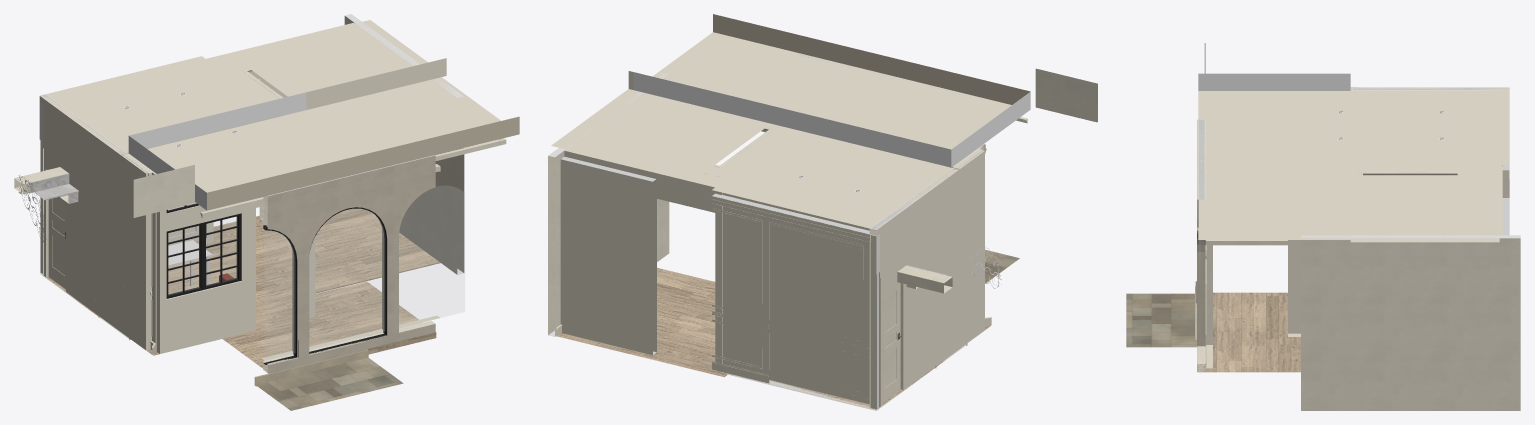
File: office-west-0fd31d61ef28.glb
The picture shows the model from 3 angles, left to right: view 1: azimuth 30°, elevation 25°; view 2: azimuth 150°, elevation 25°; view 3: azimuth 270°, elevation 25°; orthographic projection. The views are drawn at different scales.
Visible parts, largest first — view 1: office-west-look-dbd60ee5c3733ed6, office-west-6a051330000fbca1, office-west-look-c9e78b9ec1bb39cd, office-west-look-2575515a05775d9e, office-west-2575515a05775d9e, office-west-look-c02a36d0521470a9, office-west-a822d30aa9e2c55a, office-west-look-5cbcc744e6f960f3, office-west-look-3b0077416469e01b, office-west-look-c374268555806af8, office-west-look-6a1144f4e43410bb, office-west-dbd60ee5c3733ed6 (+21 smaller); view 2: office-west-look-dbd60ee5c3733ed6, office-west-fca9ba73dd7496f7, office-west-6a051330000fbca1, office-west-look-19647d6da46c2b80, office-west-2575515a05775d9e, office-west-look-2575515a05775d9e, office-west-look-3b0077416469e01b, office-west-19647d6da46c2b80, office-west-look-6a1144f4e43410bb, office-west-look-34525a54e63b733b, office-west-look-8bc98920de6516ce, office-west-dbd60ee5c3733ed6 (+10 smaller); view 3: office-west-look-6a1144f4e43410bb, office-west-look-dbd60ee5c3733ed6, office-west-2575515a05775d9e, office-west-look-2575515a05775d9e, office-west-look-c374268555806af8, office-west-dbd60ee5c3733ed6, office-west-look-982408871810a50e, office-west-look-c9e78b9ec1bb39cd, office-west-7b11e78295c2e11d, office-west-look-9cfa99552c9f4048, office-west-a822d30aa9e2c55a, office-west-look-e54cb06e326b7f4f (+4 smaller).
Boxes of the visible parts, x1,y1,x2,y2 form: office-west-look-dbd60ee5c3733ed6: (128,77,519,210); office-west-6a051330000fbca1: (39,94,156,351); office-west-look-c9e78b9ec1bb39cd: (263,155,435,372); office-west-look-2575515a05775d9e: (230,20,446,109); office-west-2575515a05775d9e: (40,56,282,155); office-west-look-c02a36d0521470a9: (309,209,385,349); office-west-a822d30aa9e2c55a: (156,139,307,353); office-west-look-5cbcc744e6f960f3: (399,186,464,327); office-west-look-3b0077416469e01b: (213,208,440,298); office-west-look-c374268555806af8: (223,281,436,370); office-west-look-6a1144f4e43410bb: (344,14,464,274); office-west-dbd60ee5c3733ed6: (128,116,314,173); office-west-look-dbd60ee5c3733ed6: (633,14,1030,166); office-west-fca9ba73dd7496f7: (722,193,840,396); office-west-6a051330000fbca1: (869,146,984,408); office-west-look-19647d6da46c2b80: (560,156,656,355); office-west-2575515a05775d9e: (712,129,958,228); office-west-look-2575515a05775d9e: (551,71,770,180); office-west-look-3b0077416469e01b: (557,267,727,377); office-west-19647d6da46c2b80: (712,193,869,407); office-west-look-6a1144f4e43410bb: (548,72,669,336); office-west-look-34525a54e63b733b: (1035,68,1097,122); office-west-look-8bc98920de6516ce: (564,149,726,208); office-west-dbd60ee5c3733ed6: (794,105,983,167); office-west-look-6a1144f4e43410bb: (1301,235,1520,410); office-west-look-dbd60ee5c3733ed6: (1198,73,1350,239); office-west-2575515a05775d9e: (1350,87,1509,164); office-west-look-2575515a05775d9e: (1350,175,1499,242); office-west-look-c374268555806af8: (1197,292,1300,372); office-west-dbd60ee5c3733ed6: (1288,90,1350,164); office-west-look-982408871810a50e: (1126,293,1196,347); office-west-look-c9e78b9ec1bb39cd: (1197,119,1205,371); office-west-7b11e78295c2e11d: (1288,161,1502,336); office-west-look-9cfa99552c9f4048: (1295,164,1479,240); office-west-a822d30aa9e2c55a: (1288,91,1295,333); office-west-look-e54cb06e326b7f4f: (1206,245,1212,368).
Size of the model in its own units: 6.87 by 3.92 by 6.21.
26 materials, 9 textured.
